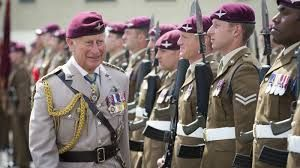gun: (190, 1, 217, 78), (255, 2, 275, 75), (152, 19, 163, 77)
uniform: (256, 38, 297, 165), (211, 57, 255, 165), (172, 48, 211, 164), (148, 68, 176, 156)
